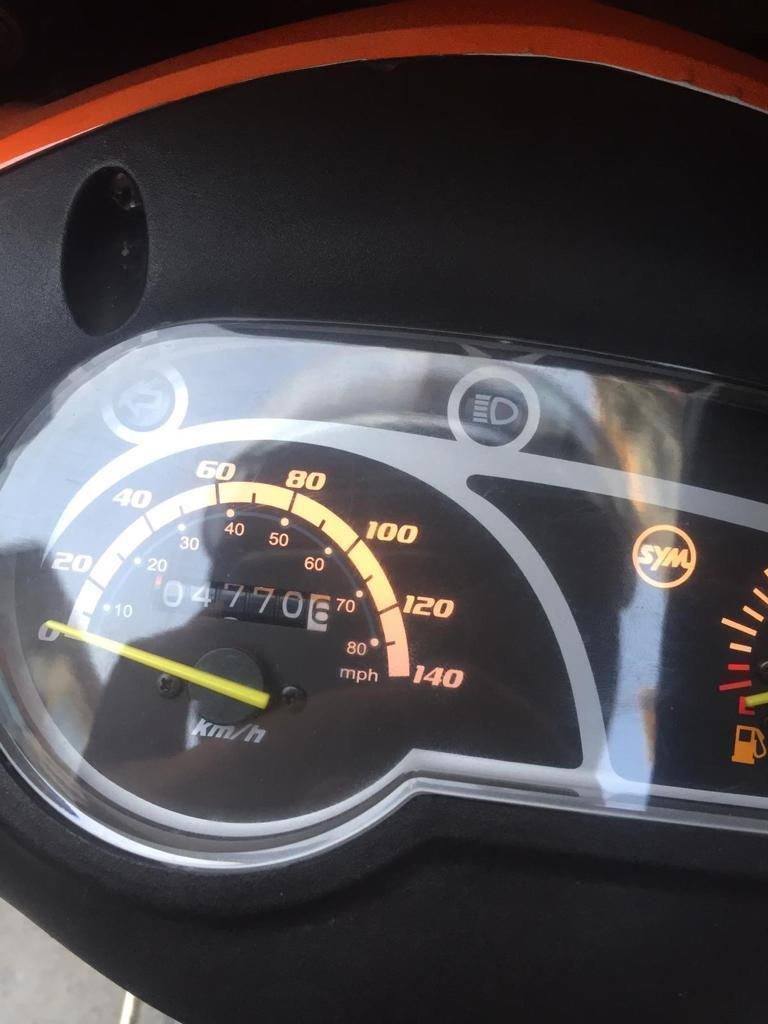0: (281, 587, 305, 620), (161, 578, 184, 611)
4: (190, 580, 214, 612)
6: (311, 596, 333, 627)
7: (222, 580, 246, 608), (253, 584, 274, 615)
odometer: (148, 573, 338, 636)
